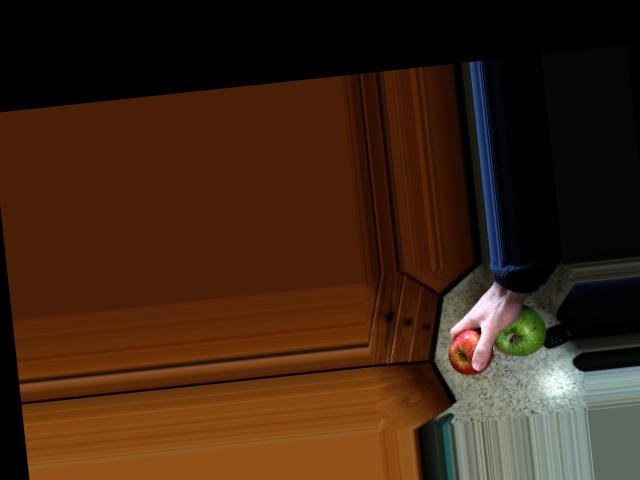apple: (488, 297, 552, 362)
